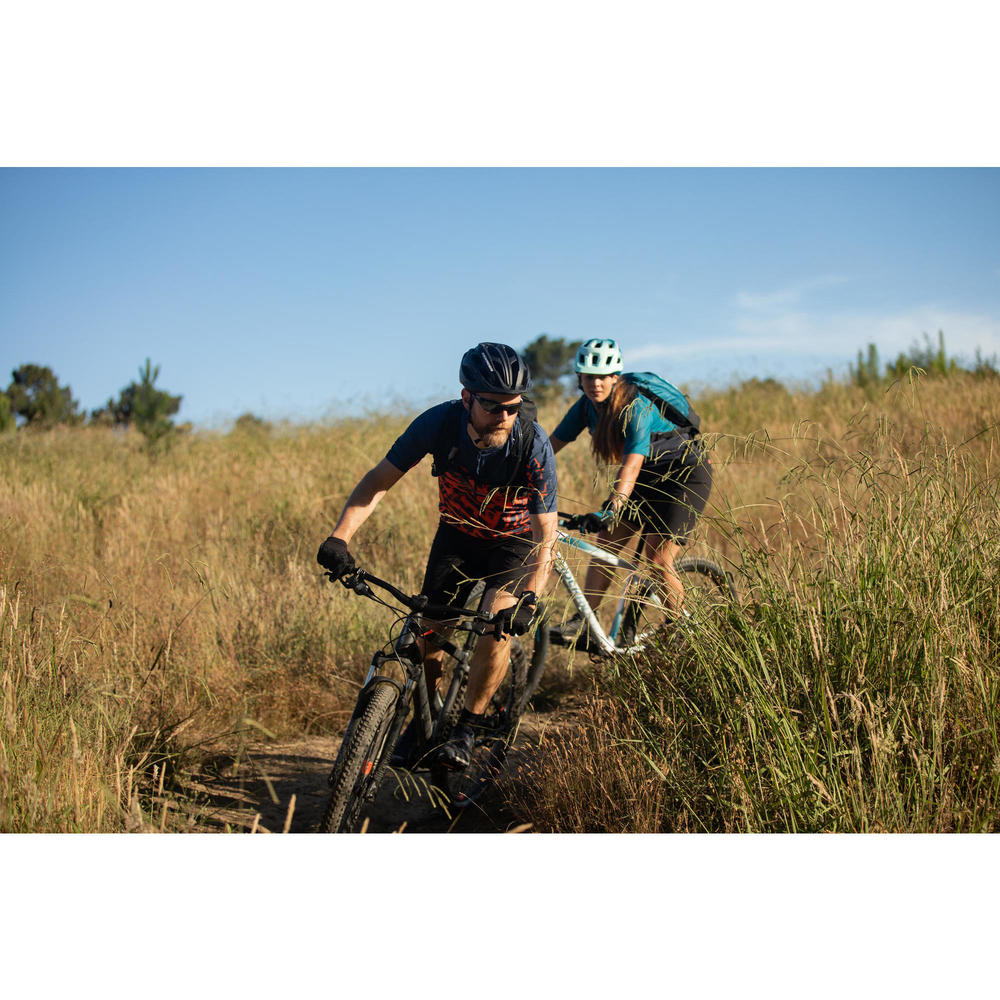MountainBike: (294, 513, 605, 817), (519, 493, 750, 705)
